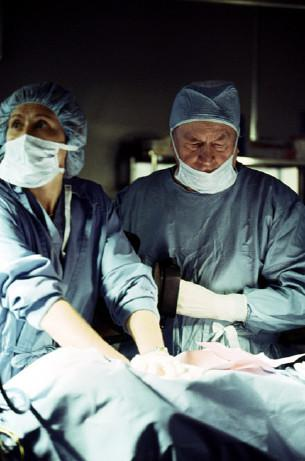OK: (8, 110, 61, 176)
WRONG: (177, 125, 235, 186)
